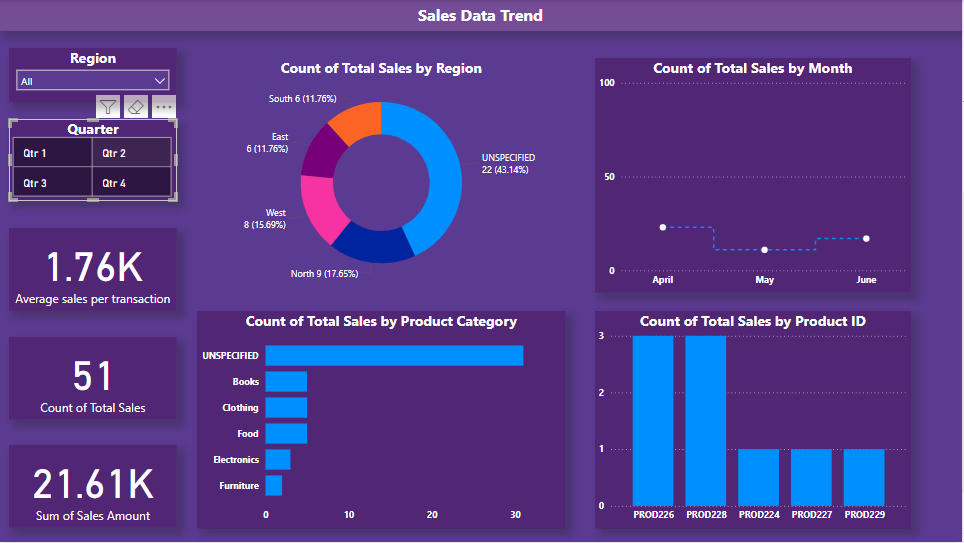

What the dashboard file says about the page in this screenshot:
{"tool":"powerbi","page":{"name":"Sales Data Trend","canvas":[1280,720],"ordinal":0},"visuals":[{"type":"textbox","box":[0,0,1280,41.3],"z":0},{"type":"lineChart","fields":{"Category":["Sales Data.Order Date.Variation.Date Hierarchy.Month"],"Y":["CountNonNull(Sales Data.Total Sales)"]},"box":[792.8,77.1,419.8,312.4],"z":1000},{"type":"barChart","fields":{"Category":["Sales Data.Product Category"],"Y":["CountNonNull(Sales Data.Total Sales)"]},"box":[262.9,412.9,490,289],"z":2000},{"type":"donutChart","fields":{"Category":["Sales Data.Region"],"Y":["CountNonNull(Sales Data.Total Sales)"]},"box":[262.9,77.1,490,312.4],"z":3000},{"type":"columnChart","fields":{"Y":["CountNonNull(Sales Data.Total Sales)"],"Category":["Sales Data.Product ID"]},"box":[792.8,412.9,419.8,289],"z":4000},{"type":"card","fields":{"Values":["Sales Data.Average sales per transactio"]},"box":[13.8,302.8,223,110.1],"z":5000},{"type":"card","fields":{"Values":["CountNonNull(Sales Data.Total Sales)"]},"box":[13.8,447.3,223,110.1],"z":6000},{"type":"card","fields":{"Values":["Sum(Sales Data.Sales Amount)"]},"box":[13.8,591.8,223,110.1],"z":7000},{"type":"advancedSlicerVisual","fields":{"Values":["Sales Data.Order Date.Variation.Date Hierarchy.Quarter"]},"box":[13.8,158.3,223,108.7],"z":8000},{"type":"slicer","title":"Region","fields":{"Values":["Sales Data.Region"]},"box":[13.8,63.3,223,71.6],"z":9000}]}

Visuals, with their boxes in screenshot pixels (x1, y1, x2, y2), scaled from the page's 1280x720 canvas onto the 964x543 screenshot:
textbox: {"x1": 0, "y1": 0, "x2": 963, "y2": 31}
lineChart - Sales Data.Order Date.Variation.Date Hierarchy.Month x CountNonNull(Sales Data.Total Sales): {"x1": 597, "y1": 58, "x2": 913, "y2": 294}
barChart - Sales Data.Product Category x CountNonNull(Sales Data.Total Sales): {"x1": 198, "y1": 311, "x2": 567, "y2": 529}
donutChart - Sales Data.Region x CountNonNull(Sales Data.Total Sales): {"x1": 198, "y1": 58, "x2": 567, "y2": 294}
columnChart - CountNonNull(Sales Data.Total Sales) x Sales Data.Product ID: {"x1": 597, "y1": 311, "x2": 913, "y2": 529}
card - Sales Data.Average sales per transactio: {"x1": 10, "y1": 228, "x2": 178, "y2": 311}
card - CountNonNull(Sales Data.Total Sales): {"x1": 10, "y1": 337, "x2": 178, "y2": 420}
card - Sum(Sales Data.Sales Amount): {"x1": 10, "y1": 446, "x2": 178, "y2": 529}
advancedSlicerVisual - Sales Data.Order Date.Variation.Date Hierarchy.Quarter: {"x1": 10, "y1": 119, "x2": 178, "y2": 201}
"Region" slicer: {"x1": 10, "y1": 48, "x2": 178, "y2": 102}
